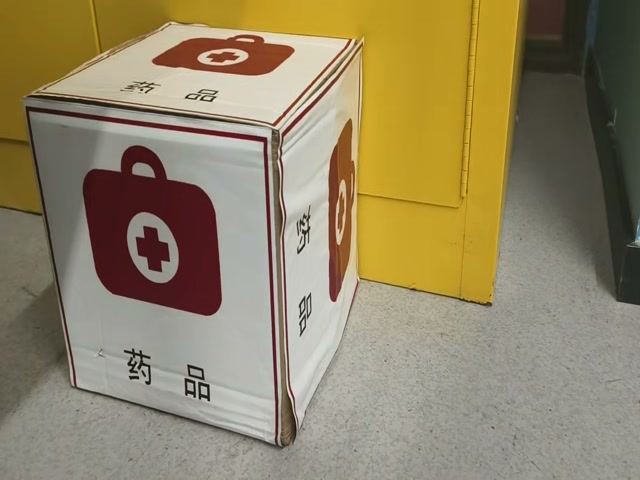Cube_medicine: (25, 23, 361, 143)
